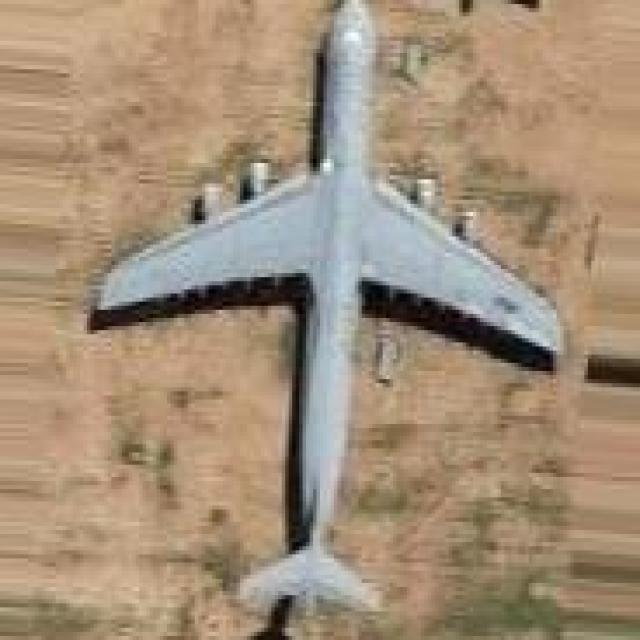C-5_TopDown: (89, 0, 564, 638)
